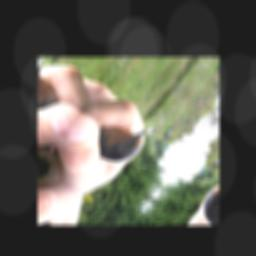Swallow: (83, 109, 154, 172)
